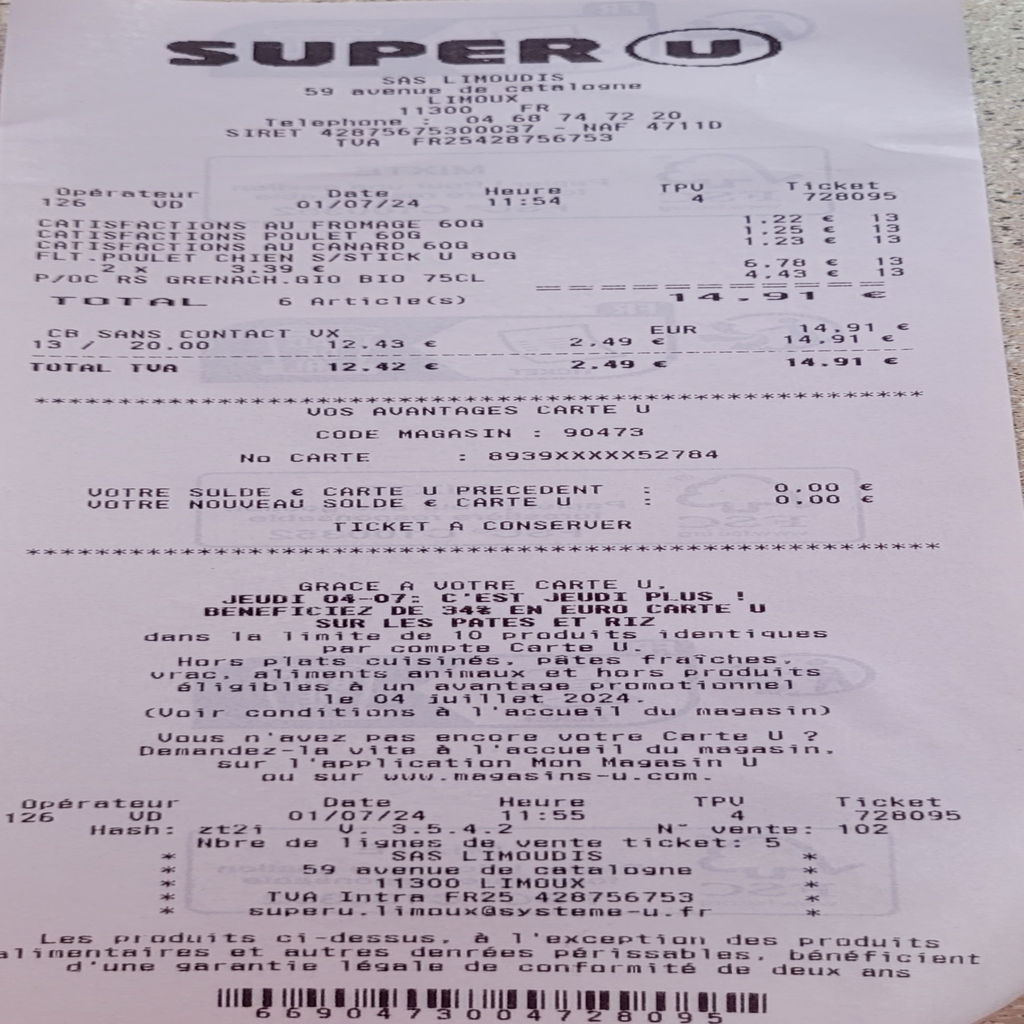recipt: (8, 8, 1014, 1011)
